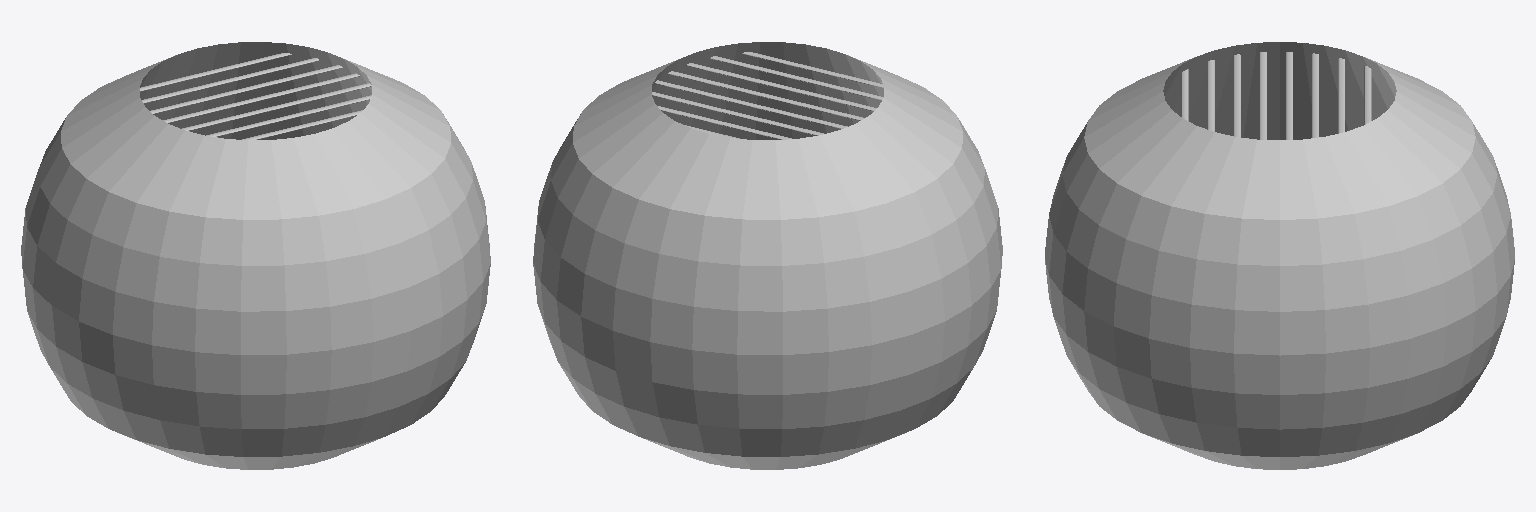
The model's file is spottwo.obj.
3 renders of one model, left to right at view 1: azimuth 30°, elevation 25°; view 2: azimuth 150°, elevation 25°; view 3: azimuth 270°, elevation 25°, orthographic.
Visible parts, largest first — view 1: Cylinder.002_Cylinder.004; view 2: Cylinder.002_Cylinder.004; view 3: Cylinder.002_Cylinder.004.
Part boxes in pixels (x1,y1,x2,y2): Cylinder.002_Cylinder.004: (21, 42, 490, 469); Cylinder.002_Cylinder.004: (533, 42, 1002, 469); Cylinder.002_Cylinder.004: (1045, 42, 1514, 469).
Size of the model in its own units: 2 by 1.54 by 2.